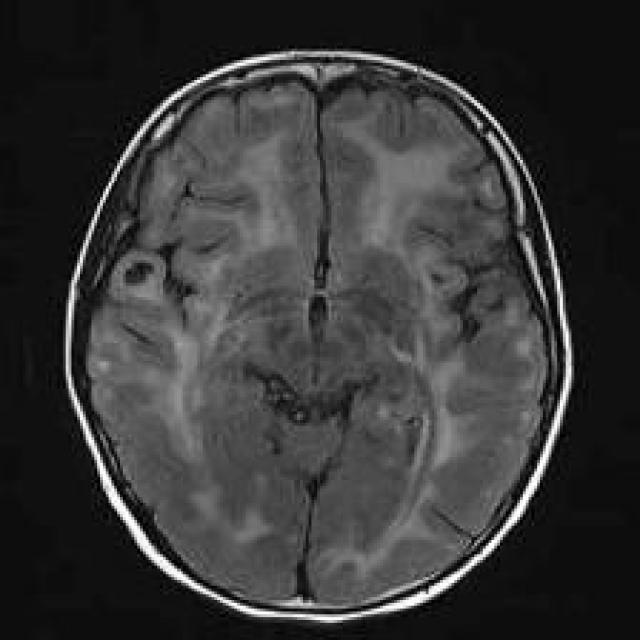no_tumor: (59, 50, 588, 627)
